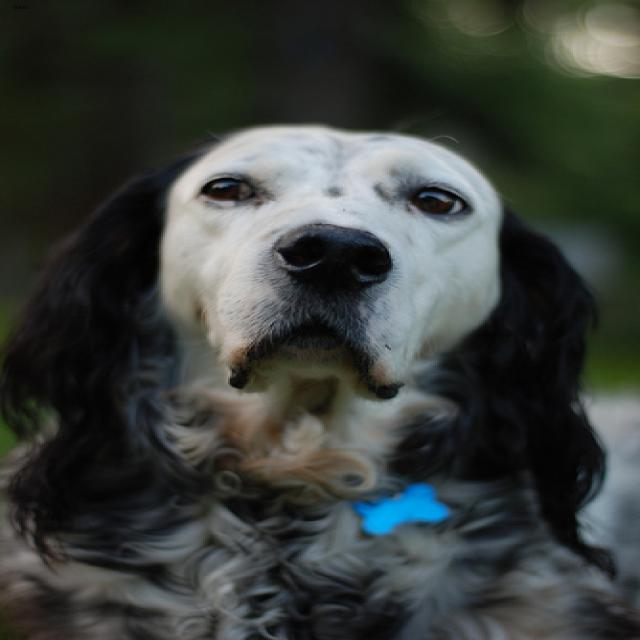dog-english_setter: (2, 116, 636, 637)
